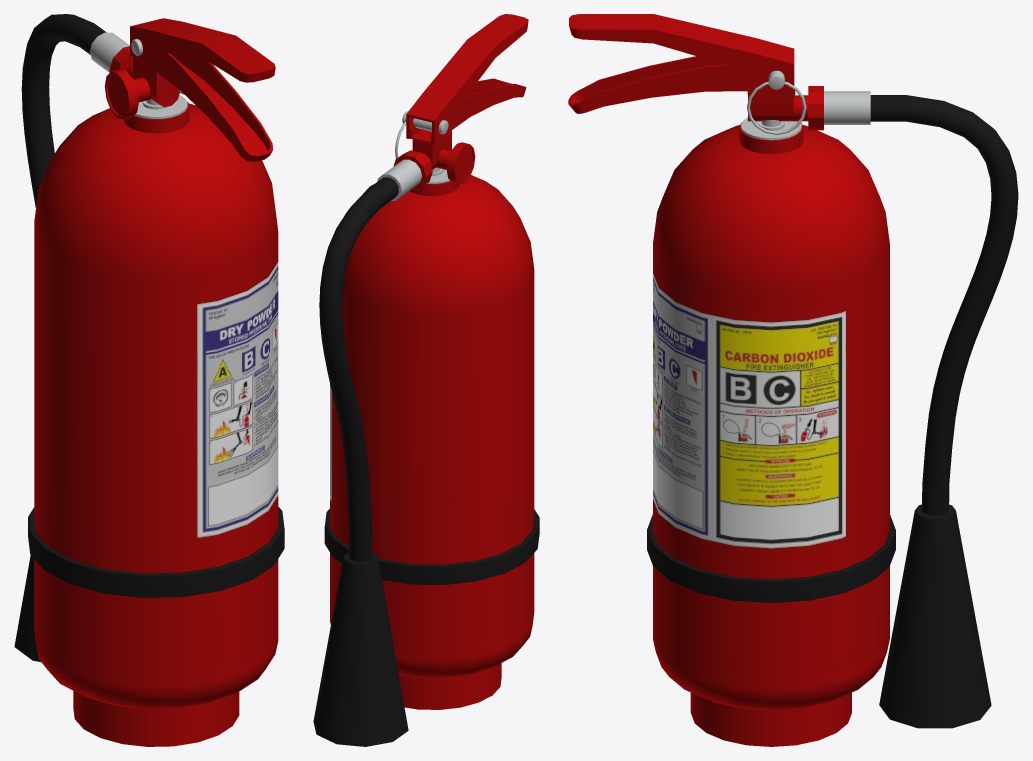
The model's file is Estinguisher_01_360.glb.
3 renders of one model, left to right at view 1: azimuth 30°, elevation 25°; view 2: azimuth 150°, elevation 25°; view 3: azimuth 270°, elevation 25°, orthographic. The views are drawn at different scales.
Parts seen in each view (by area): view 1: Estinguiesher_01; view 2: Estinguiesher_01; view 3: Estinguiesher_01.
Part boxes in pixels (box(x1,y1,x2,y2)): Estinguiesher_01: box(14, 14, 284, 746); Estinguiesher_01: box(313, 14, 539, 746); Estinguiesher_01: box(568, 14, 1018, 746).
Size of the model in its own units: 20.06 by 61.49 by 36.24.
Materials: 1 (1 with a texture image).
